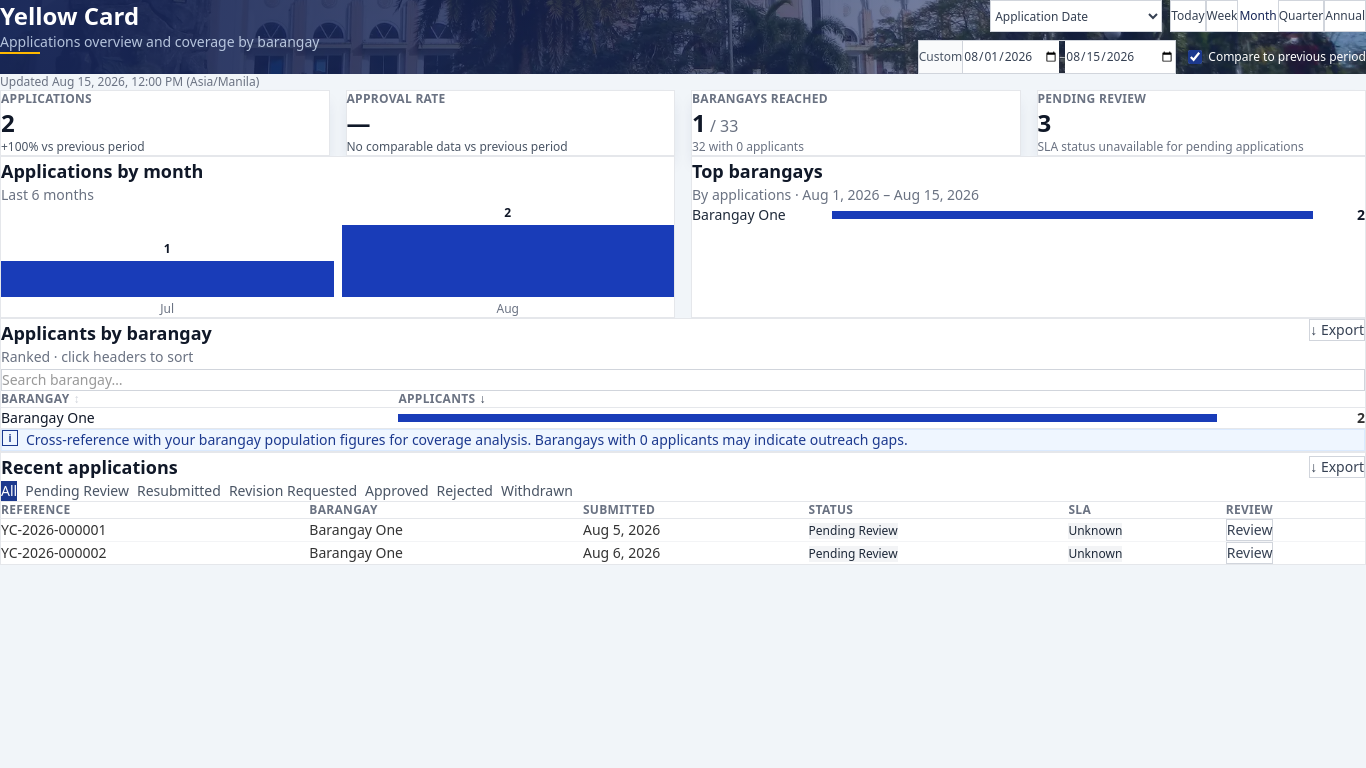
Test: YellowCardPage › the compare toggle shows and hides the real vs-previous-period delta
Check: the text "YC-2026-000001" is shown, box [1,518,309,542]
Check: the text "+100% vs previous period" is shown, box [1,138,145,155]
Click the checkbox labelled "Compare to previous period" at (1195, 57), box [1188,50,1202,64]
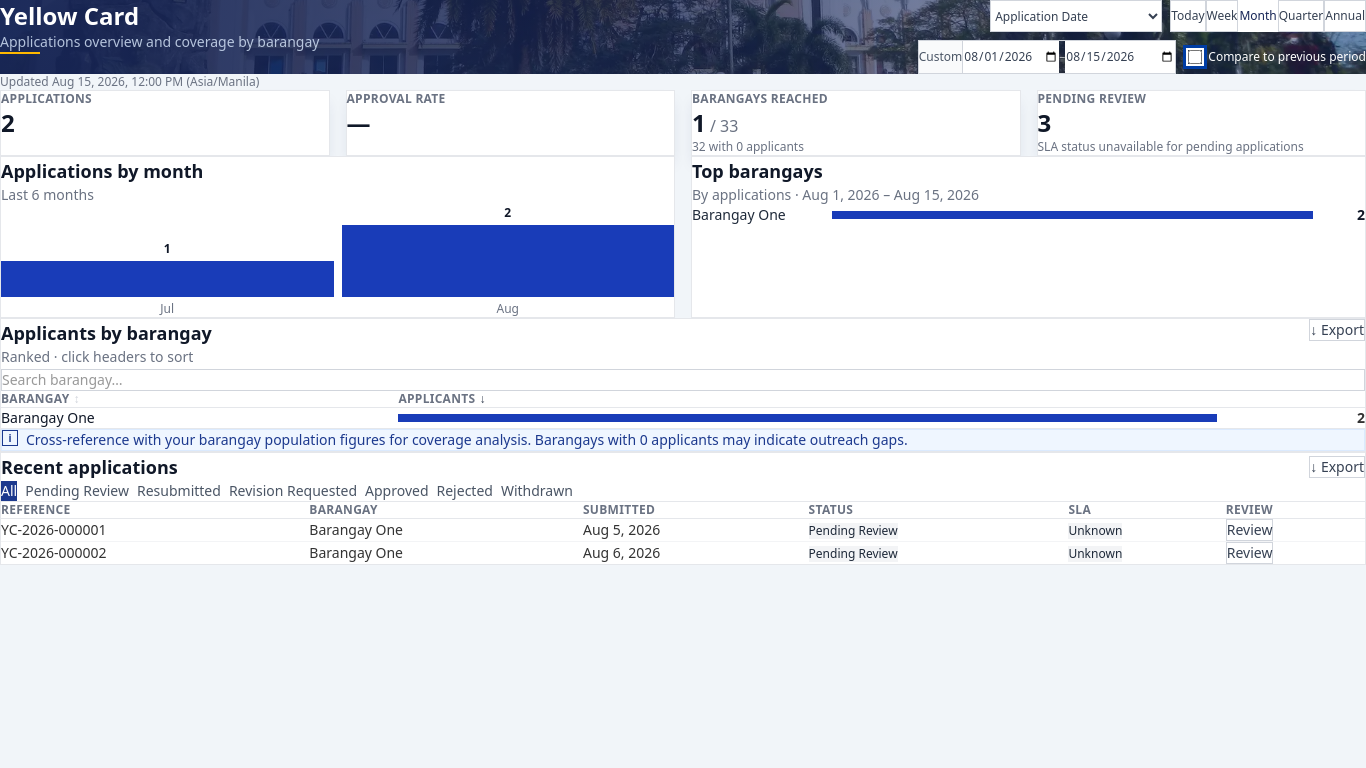
Check: the text "+100% vs previous period" is gone
